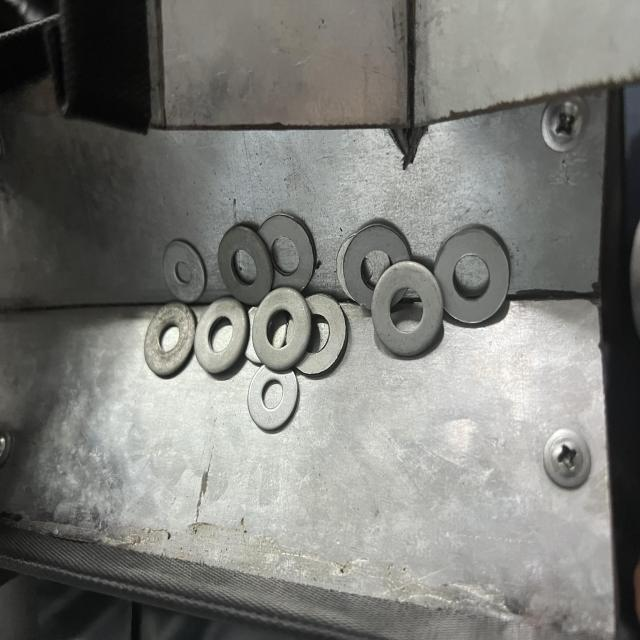washer: (370, 261, 445, 359), (252, 288, 312, 374), (197, 295, 245, 382), (144, 301, 194, 378)
